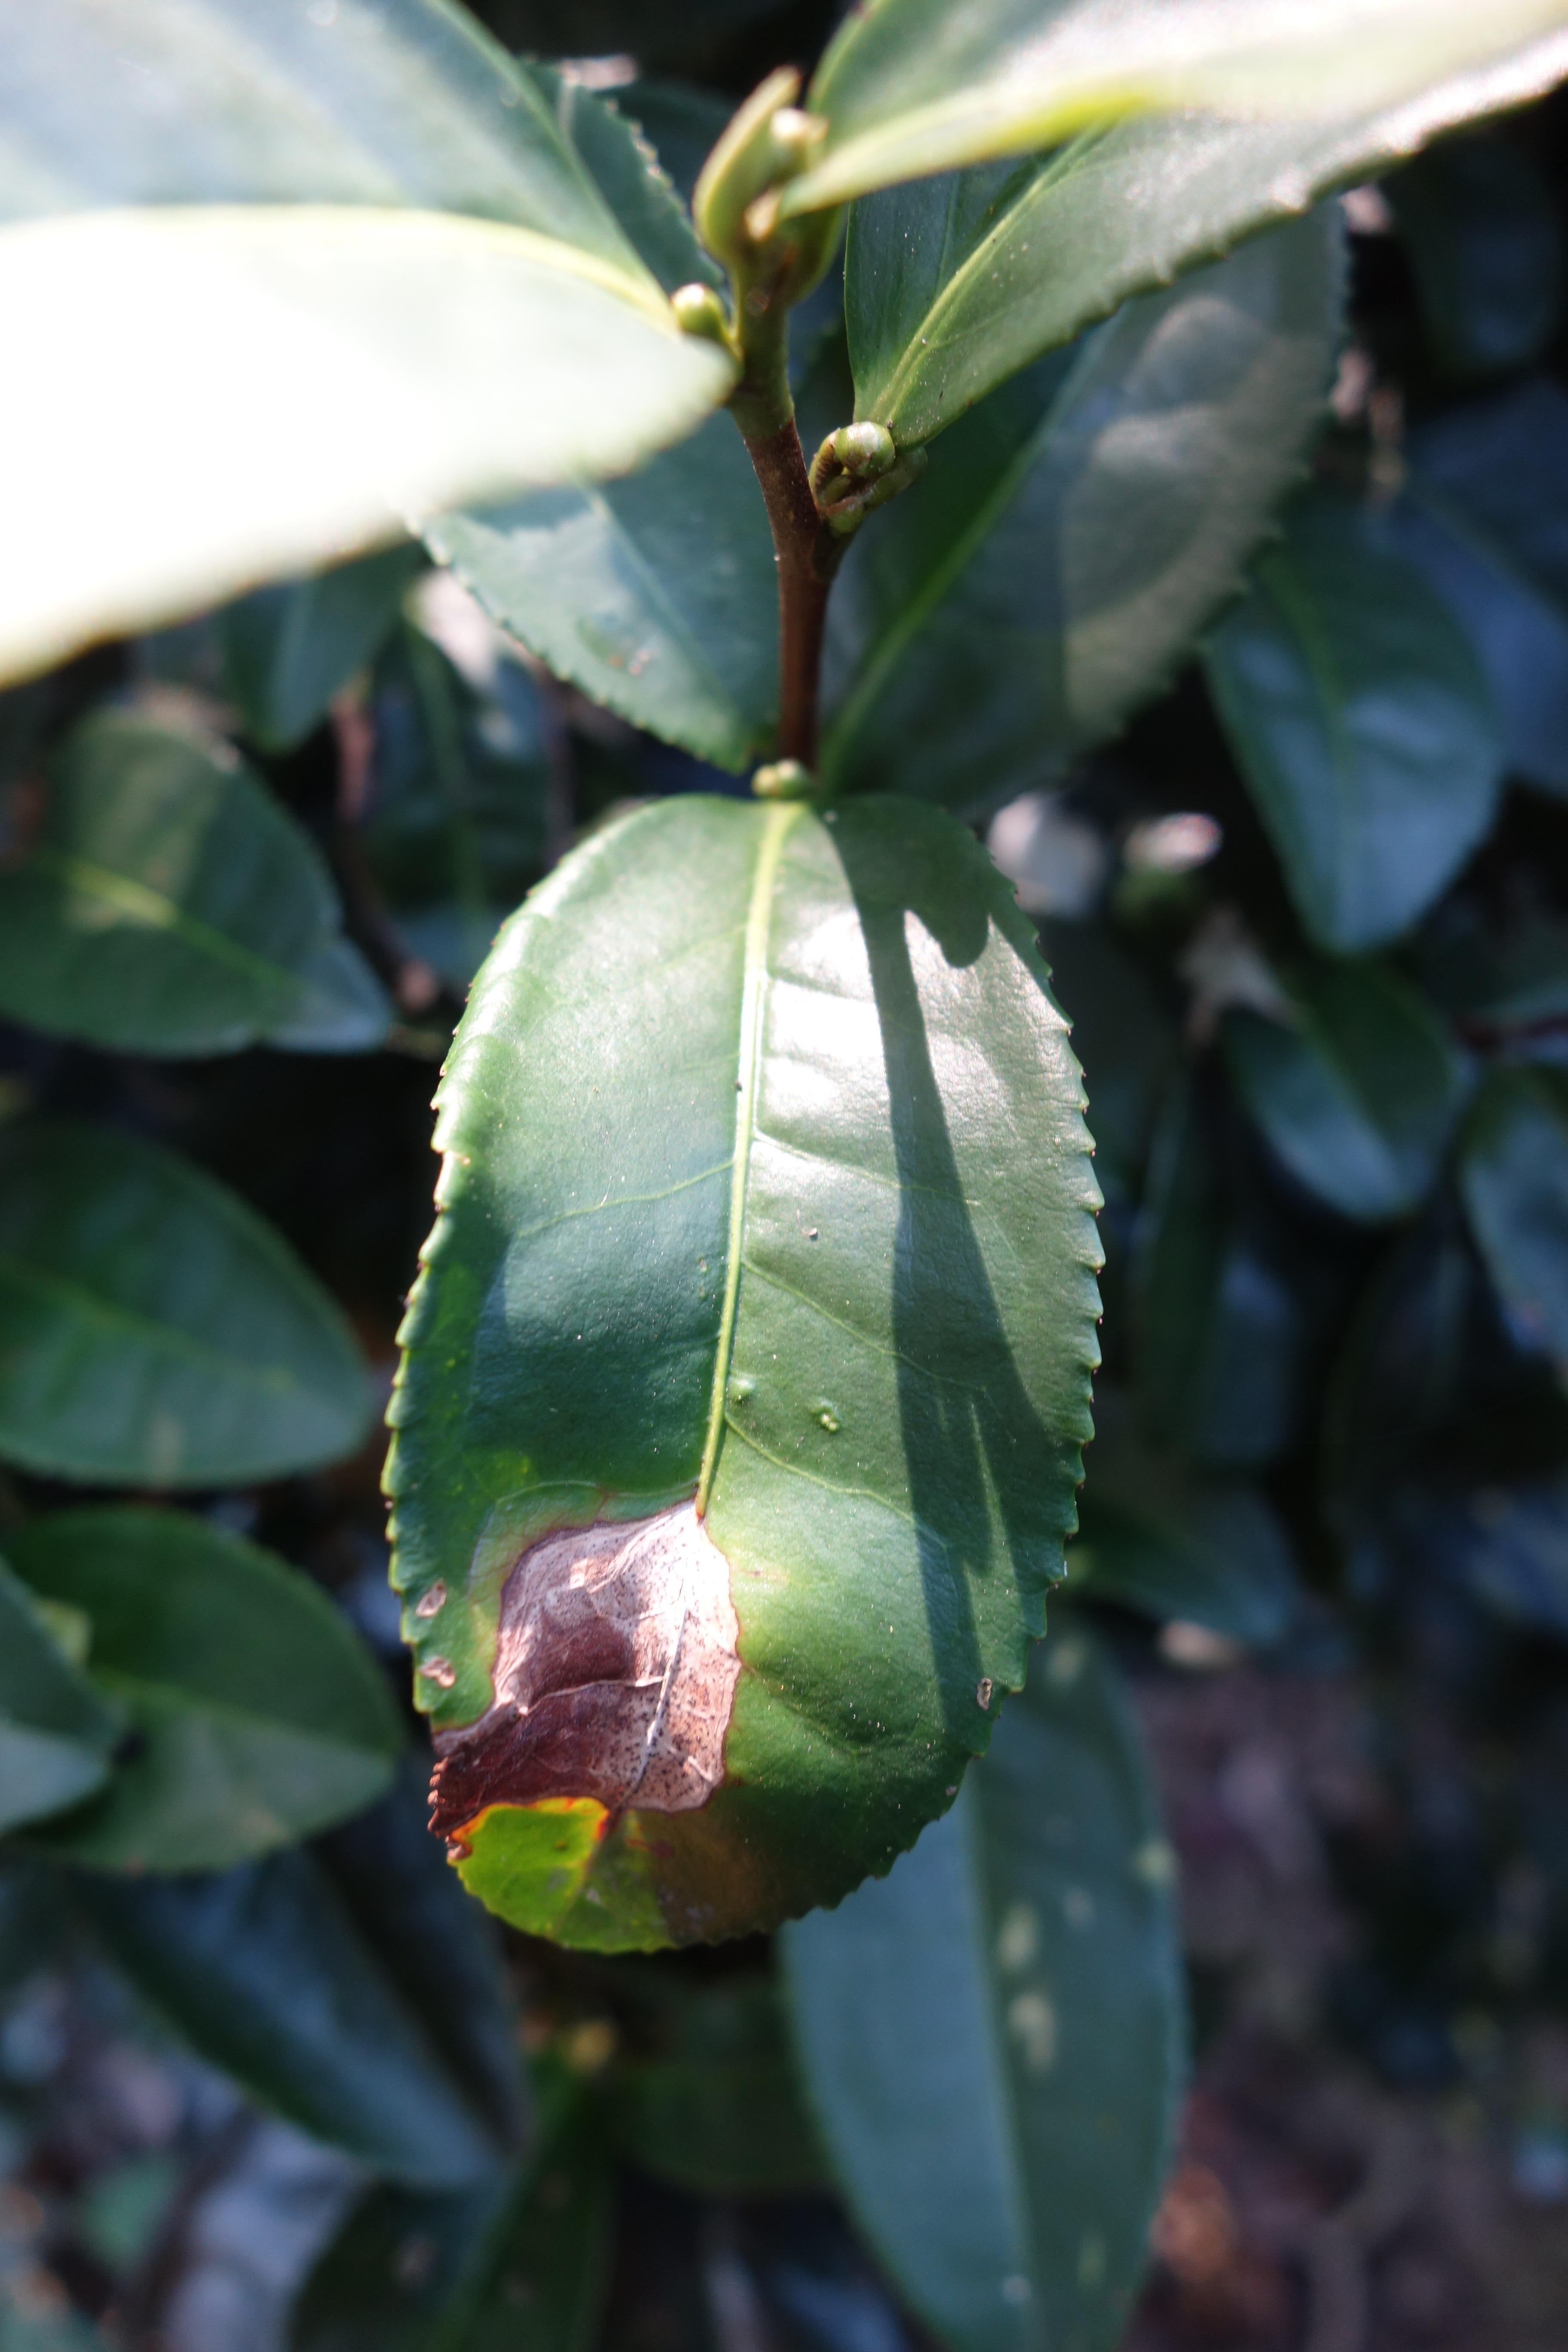tanju_high: (380, 786, 1109, 1960)
